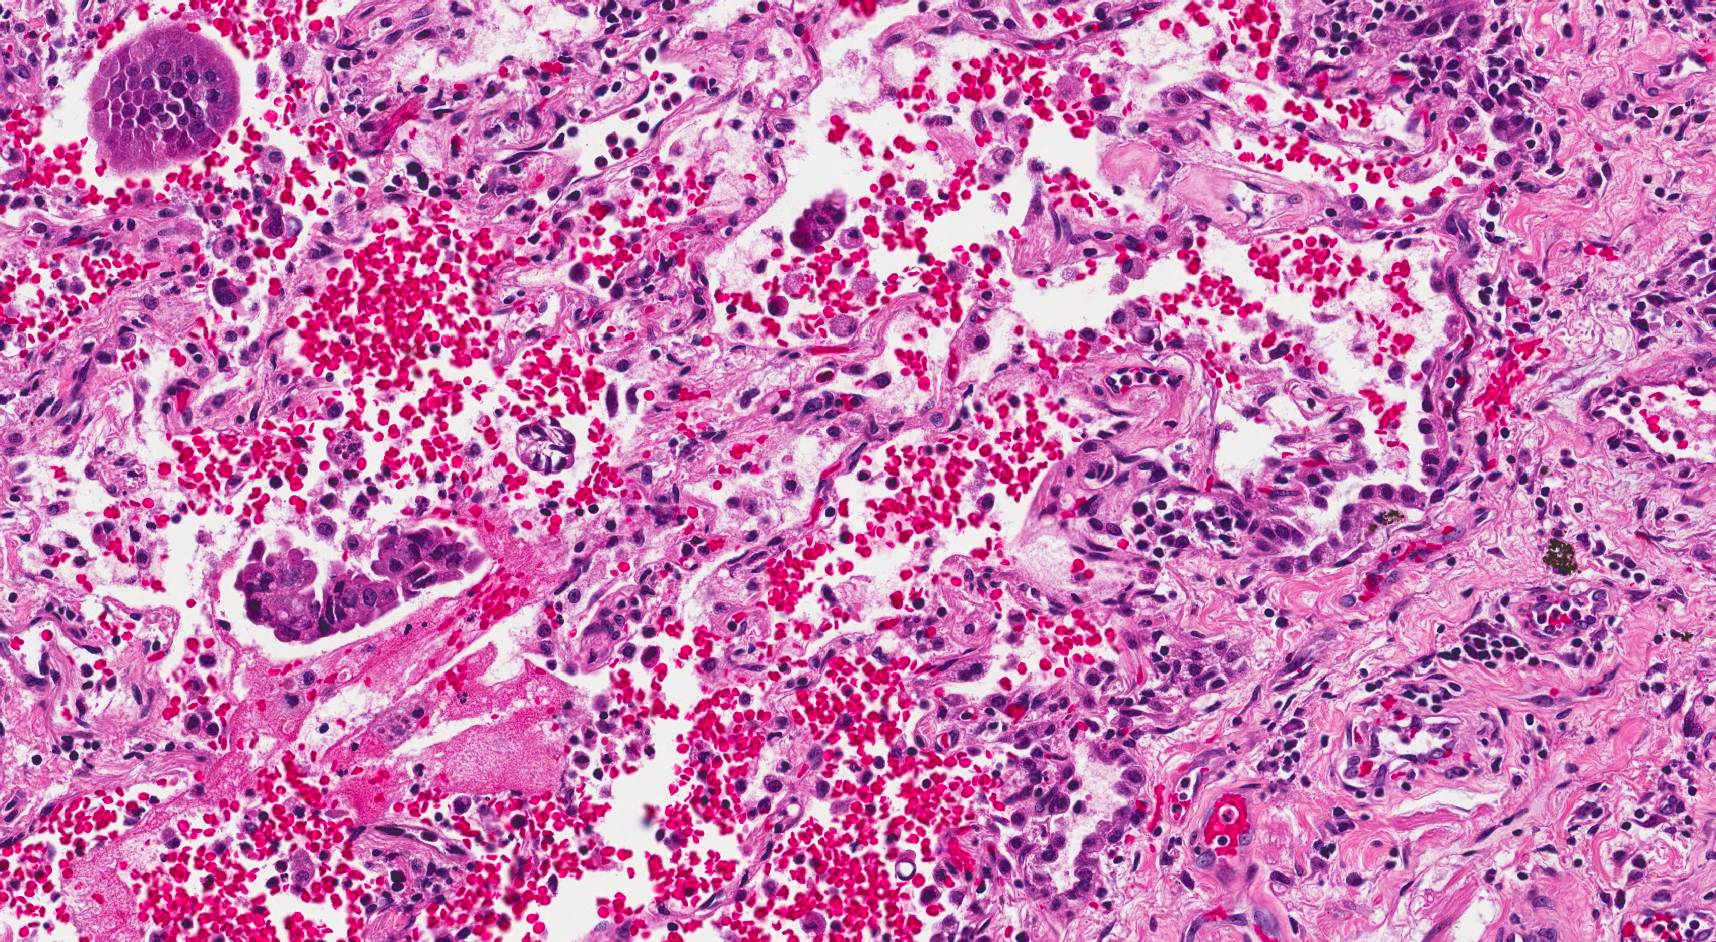stas: (231, 527, 486, 643), (88, 26, 240, 173), (789, 184, 849, 252), (513, 413, 575, 474)
